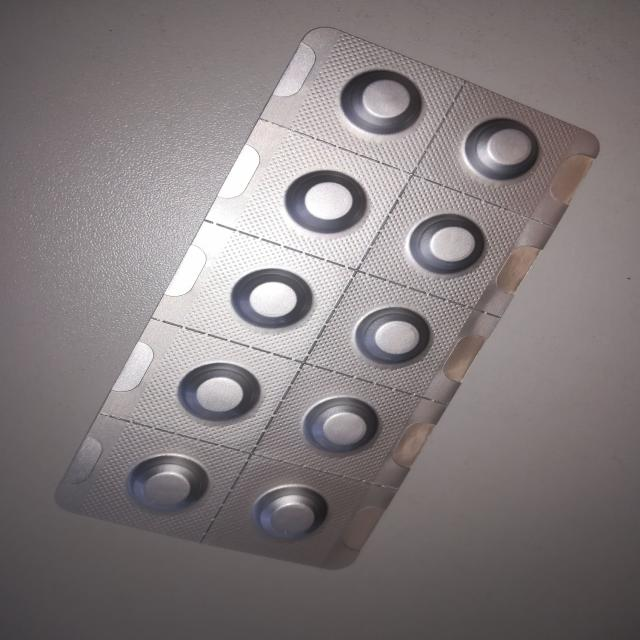Pill: (325, 63, 430, 139), (166, 355, 258, 432), (99, 450, 202, 518), (290, 394, 398, 456), (458, 110, 546, 186), (284, 166, 374, 239), (243, 478, 335, 548), (400, 205, 486, 277), (224, 262, 312, 332), (350, 305, 441, 369)
